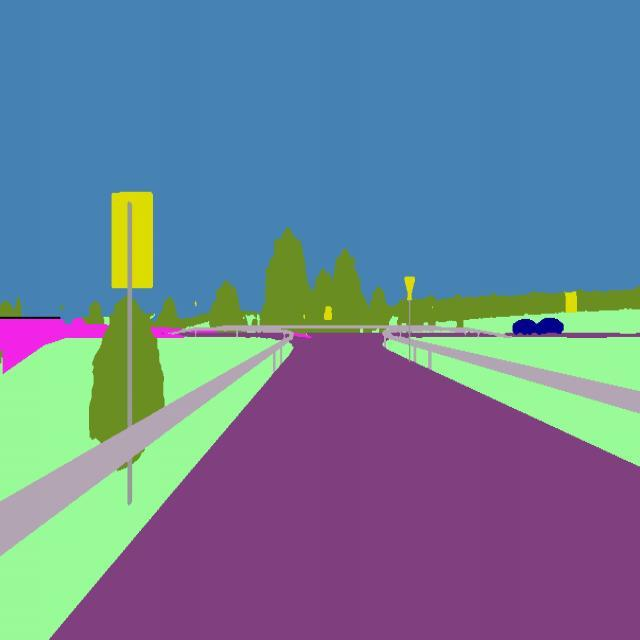safe: (532, 314, 566, 338), (511, 316, 543, 339)
